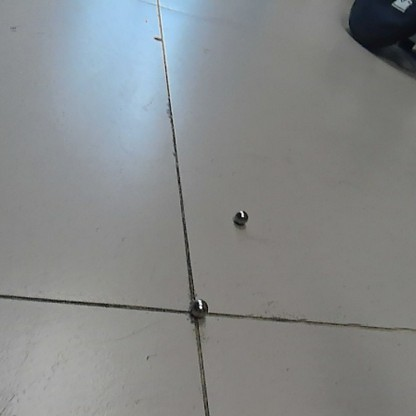ironball: (187, 296, 208, 320), (231, 207, 249, 226)
